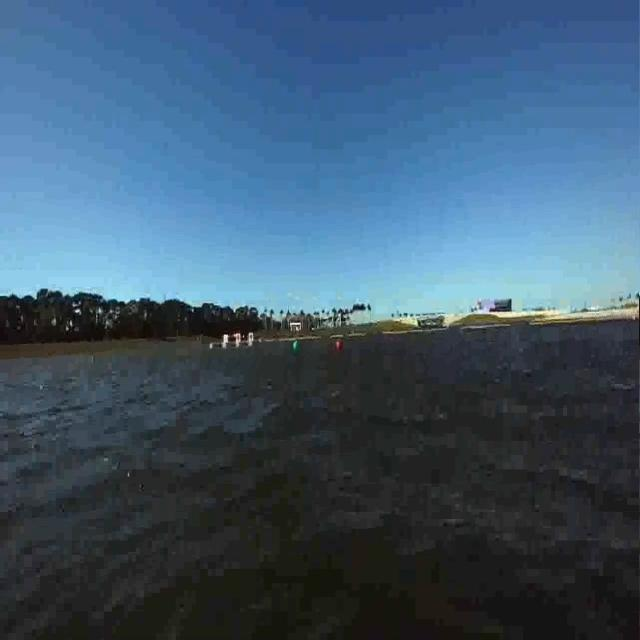green-buoy: (292, 343, 300, 354)
red-buoy: (338, 342, 343, 351)
